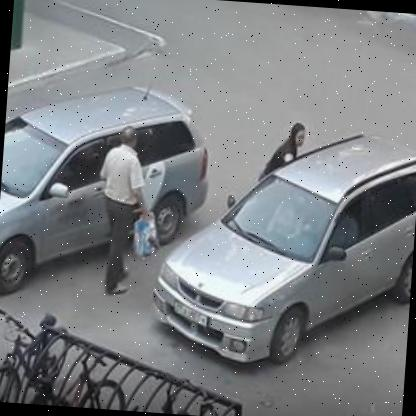car: (148, 120, 416, 376)
person: (90, 121, 164, 304), (260, 116, 314, 183)
